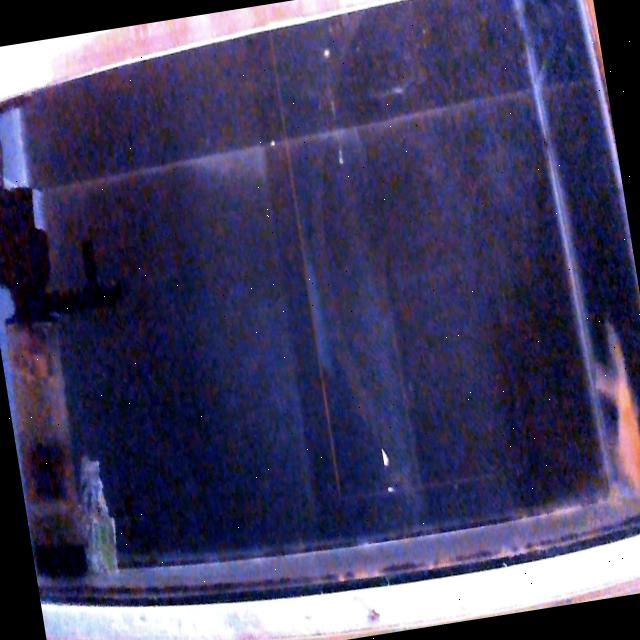fish: (584, 315, 640, 504)
